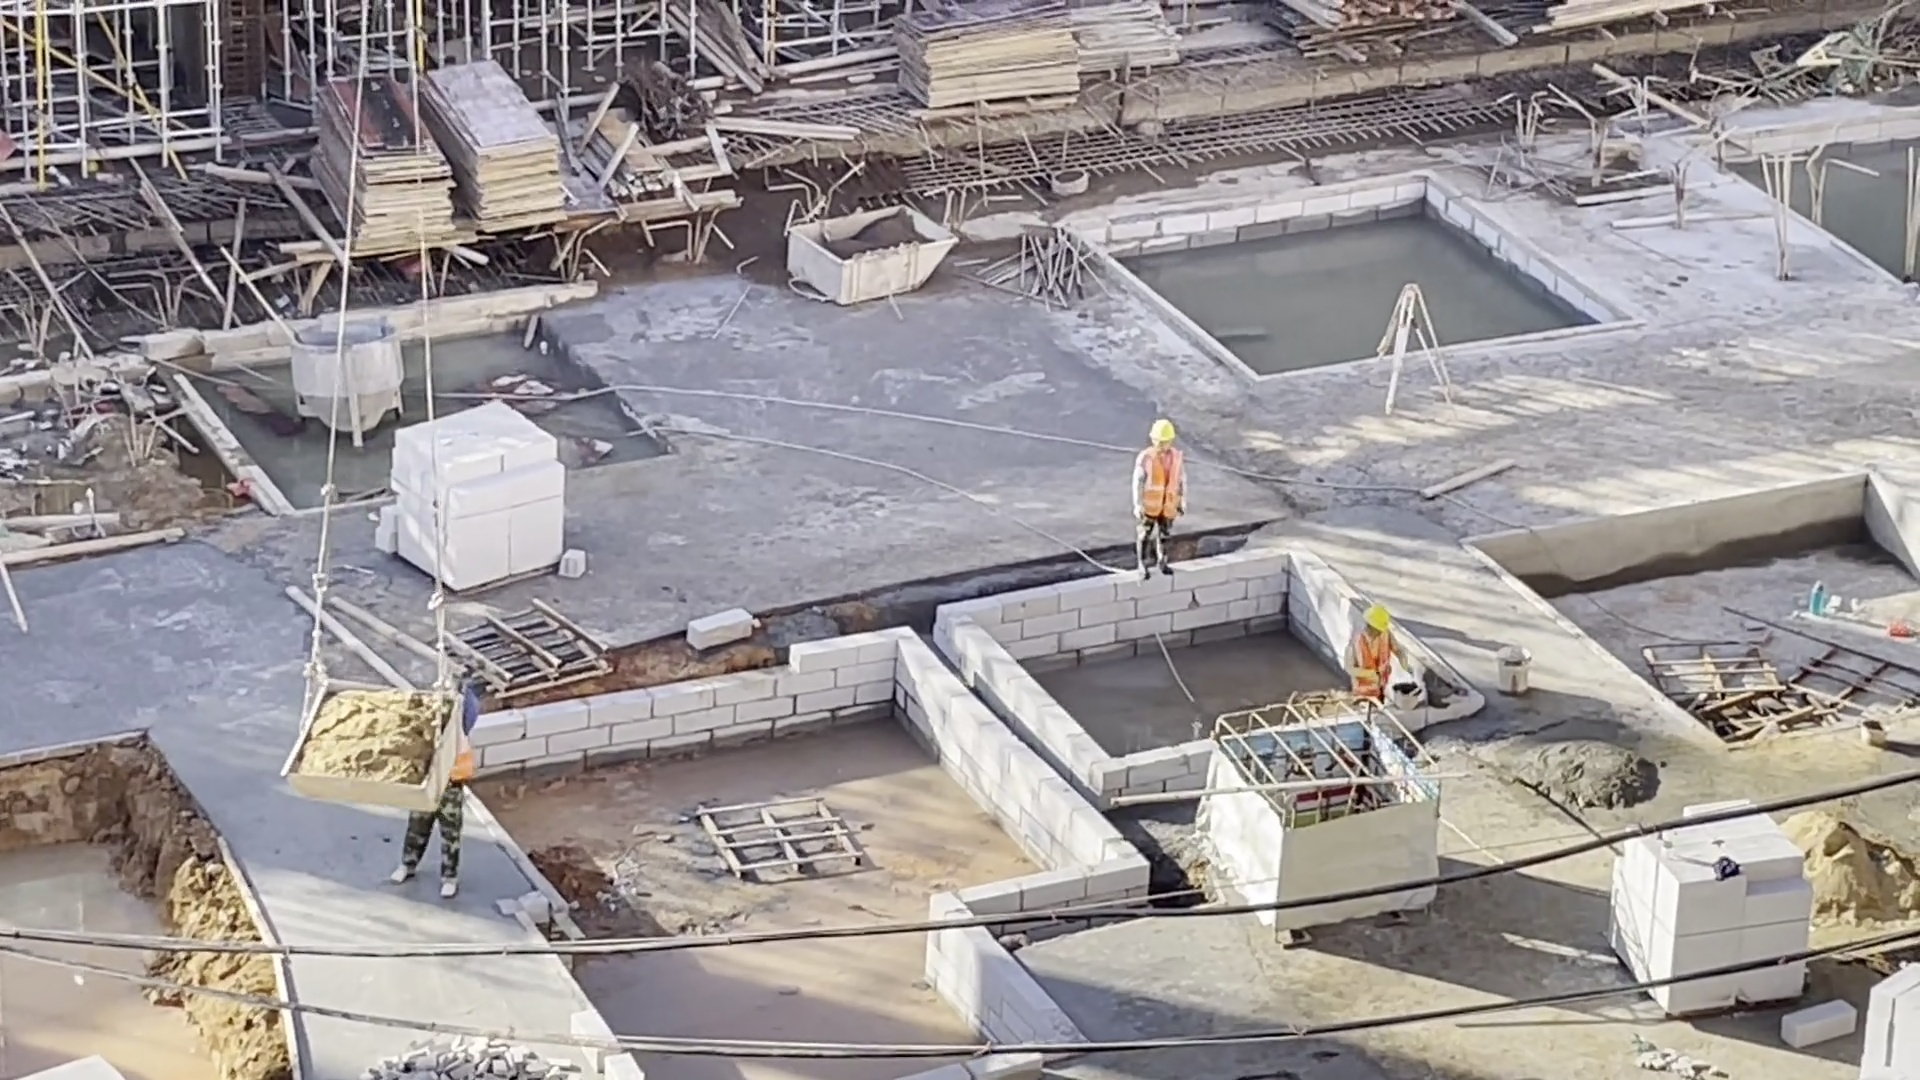board: (308, 72, 460, 258), (423, 48, 567, 234), (889, 5, 1086, 122)
brick: (383, 395, 568, 591), (1610, 846, 1815, 957)
helmet: (1363, 602, 1393, 637), (1146, 415, 1175, 442)
hopper: (274, 676, 458, 822), (777, 208, 955, 301), (291, 315, 403, 450)
person: (1130, 420, 1193, 582), (381, 812, 480, 898), (1334, 600, 1414, 701)
vest: (1346, 628, 1395, 701), (1138, 447, 1186, 521)
